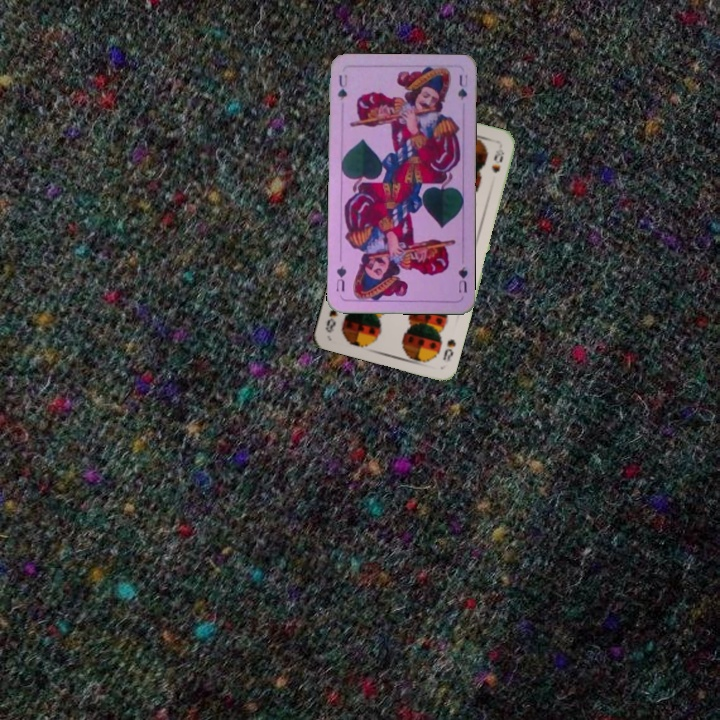GU: (333, 71, 350, 103), (454, 263, 470, 295)
S8: (439, 335, 458, 365)
